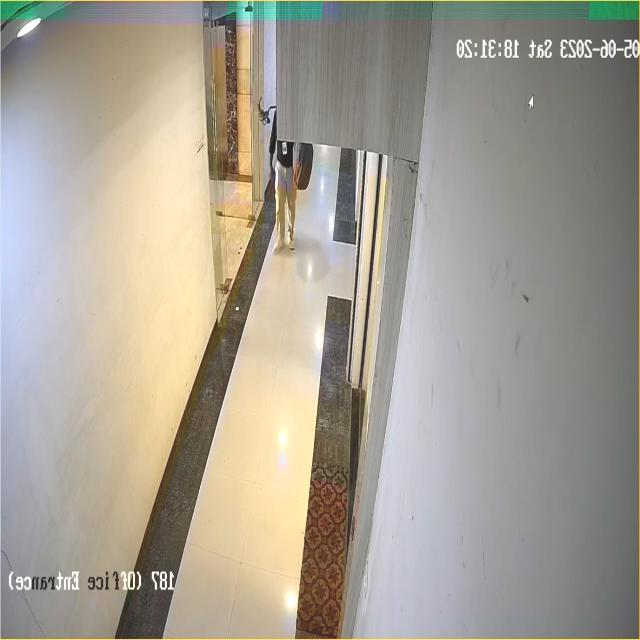gunny_bag: (294, 142, 314, 196)
